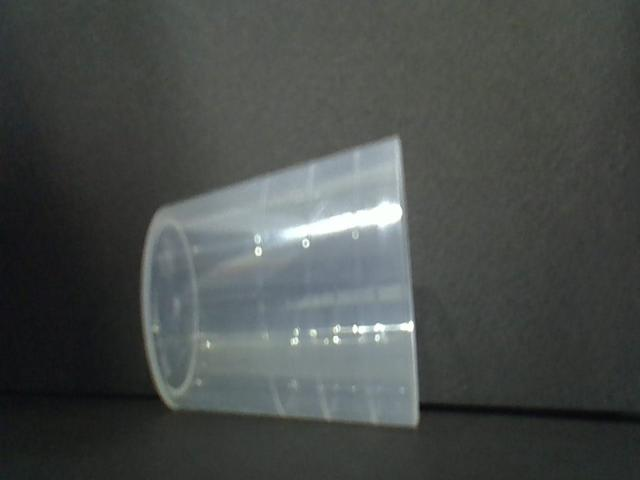cup: (136, 138, 422, 427)
